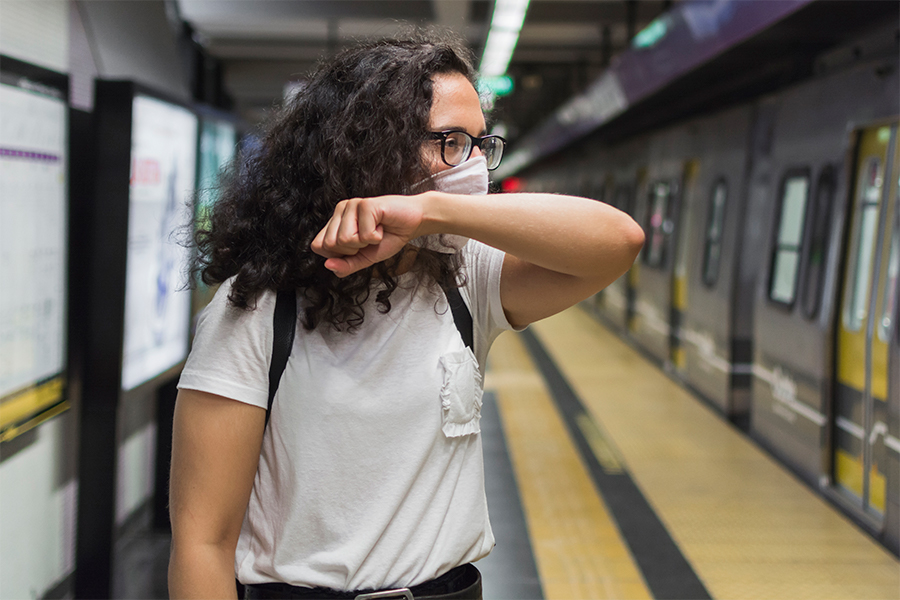with_mask: (376, 61, 509, 265)
